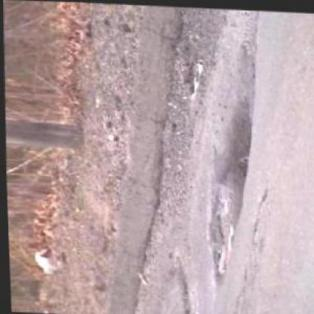Hueco: (198, 96, 259, 282)
